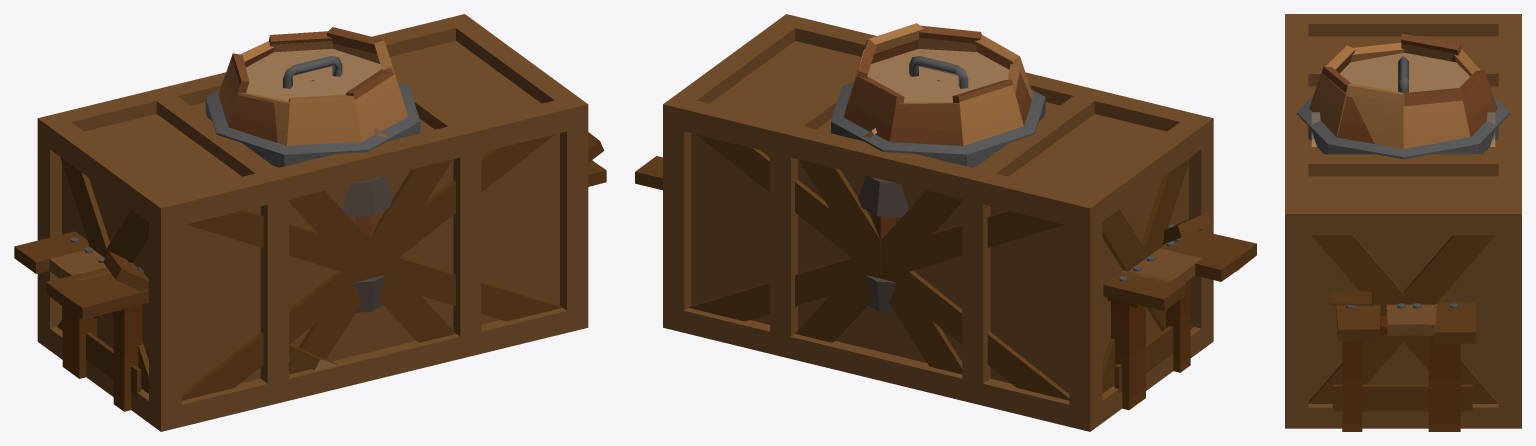
Rendered from AdditionalStuff.fbx.
The picture shows the model from 3 angles, left to right: view 1: azimuth 30°, elevation 25°; view 2: azimuth 150°, elevation 25°; view 3: azimuth 270°, elevation 25°; orthographic projection. The views are drawn at different scales.
Visible parts, largest first — view 1: Crate02, Crate01, Barrel02, Bench02, Barrel01, TrashCan01_Top, Bench01, Bench03; view 2: Crate02, Crate01, Barrel01, Barrel02, Bench02, TrashCan01_Top, Bench03, Bench01; view 3: Crate02, Barrel02, Bench02, Crate01, Bench03, Barrel01, TrashCan01_Top, Bench01, Box04.
Boxes of the visible parts, <box> form: Crate02: <box>37,14,588,431</box>; Crate01: <box>156,65,481,403</box>; Barrel02: <box>218,39,408,145</box>; Bench02: <box>14,132,604,411</box>; Barrel01: <box>228,27,393,312</box>; TrashCan01_Top: <box>205,56,420,167</box>; Bench01: <box>17,160,606,319</box>; Bench03: <box>46,160,605,395</box>; Crate02: <box>663,14,1213,431</box>; Crate01: <box>770,65,1096,405</box>; Barrel01: <box>843,25,1031,312</box>; Barrel02: <box>845,23,1033,145</box>; Bench02: <box>638,159,1210,410</box>; TrashCan01_Top: <box>831,56,1045,167</box>; Bench03: <box>1121,241,1243,402</box>; Bench01: <box>635,156,1256,299</box>; Crate02: <box>1285,14,1521,428</box>; Barrel02: <box>1309,42,1480,148</box>; Bench02: <box>1330,291,1475,431</box>; Crate01: <box>1285,64,1521,176</box>; Bench03: <box>1333,303,1448,431</box>; Barrel01: <box>1321,33,1497,143</box>; TrashCan01_Top: <box>1296,56,1510,158</box>; Bench01: <box>1336,302,1475,343</box>; Box04: <box>1311,112,1495,146</box>.
Size of the model in its own units: 225 by 116 by 88.92.
